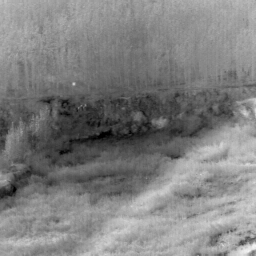Target: (71, 81, 77, 87)
